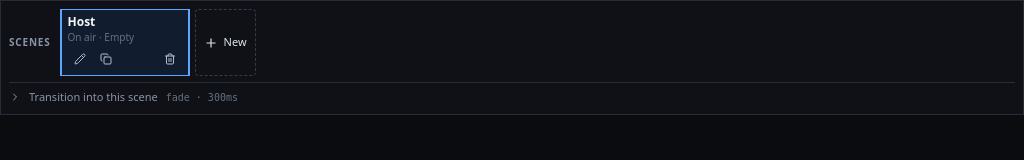
SceneStrip › duplicates a scene
Click the button named "Duplicate Host" at (106, 59), box [94,47,118,71]
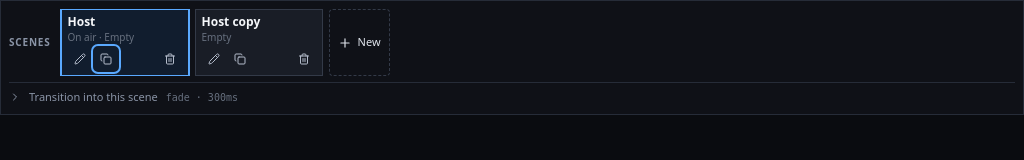
Result: the text "Host copy" is shown at [202,13,260,30]
